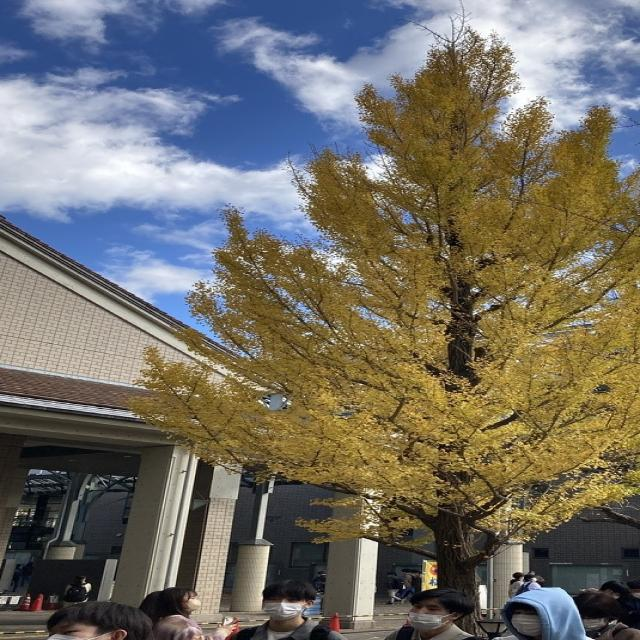ginkgo: (115, 3, 640, 635)
